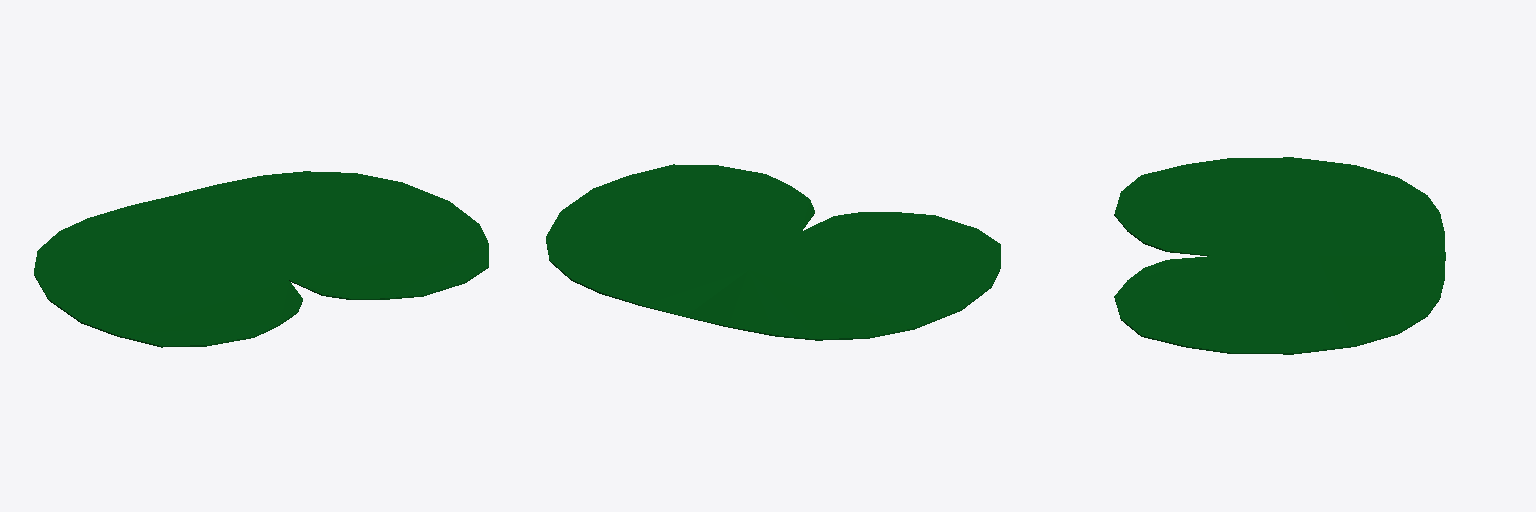
The model's file is LilyPad.obj.
3 views of the same model, side by side, from view 1: azimuth 30°, elevation 25°; view 2: azimuth 150°, elevation 25°; view 3: azimuth 270°, elevation 25° (orthographic).
Visible parts, largest first — view 1: LilyPad; view 2: LilyPad; view 3: LilyPad.
Boxes of the visible parts, x1,y1,x2,y2 form: LilyPad: [34, 171, 488, 347]; LilyPad: [546, 164, 1000, 340]; LilyPad: [1114, 157, 1445, 354].
Bounding box in the file's own units: 5.71 × 0.02 × 4.09.